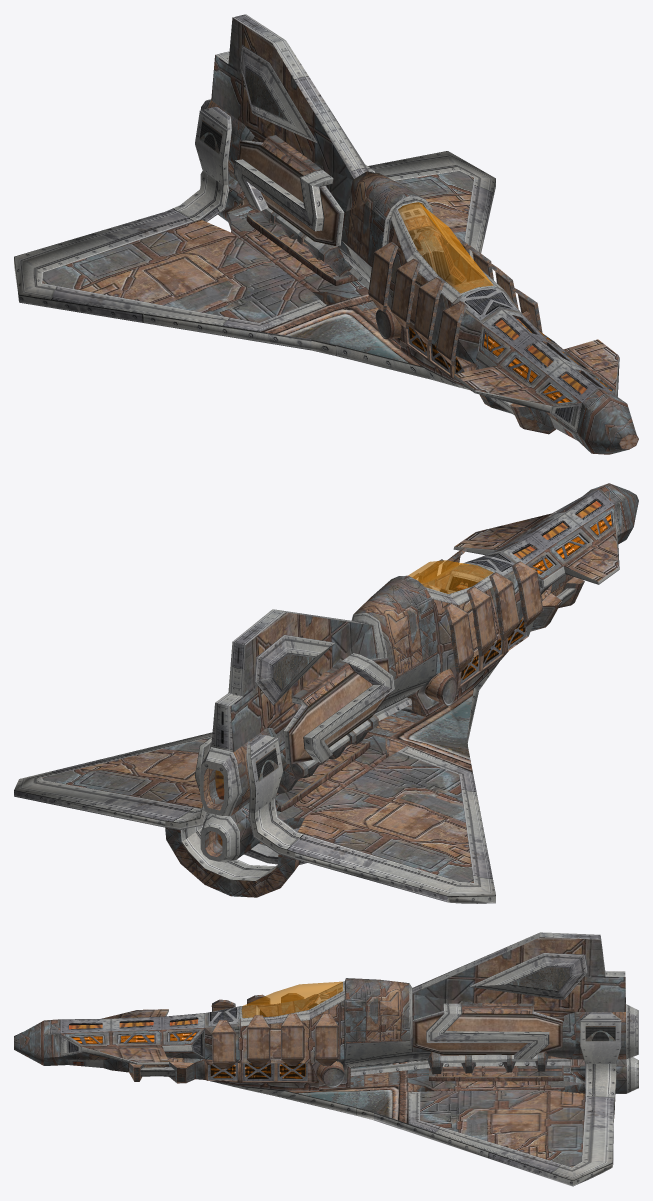
File: aDq3U.obj
The picture shows the model from 3 angles, top to bottom: view 1: azimuth 30°, elevation 25°; view 2: azimuth 150°, elevation 25°; view 3: azimuth 270°, elevation 25°; orthographic projection. The views are drawn at different scales.
Visible parts, largest first — view 1: Some_Ship; view 2: Some_Ship; view 3: Some_Ship.
Boxes of the visible parts, x1,y1,x2,y2 form: Some_Ship: [14, 14, 638, 454]; Some_Ship: [14, 483, 638, 903]; Some_Ship: [14, 932, 638, 1186].
Size of the model in its own units: 43.96 by 22.02 by 66.32.
8 materials, 7 textured.
